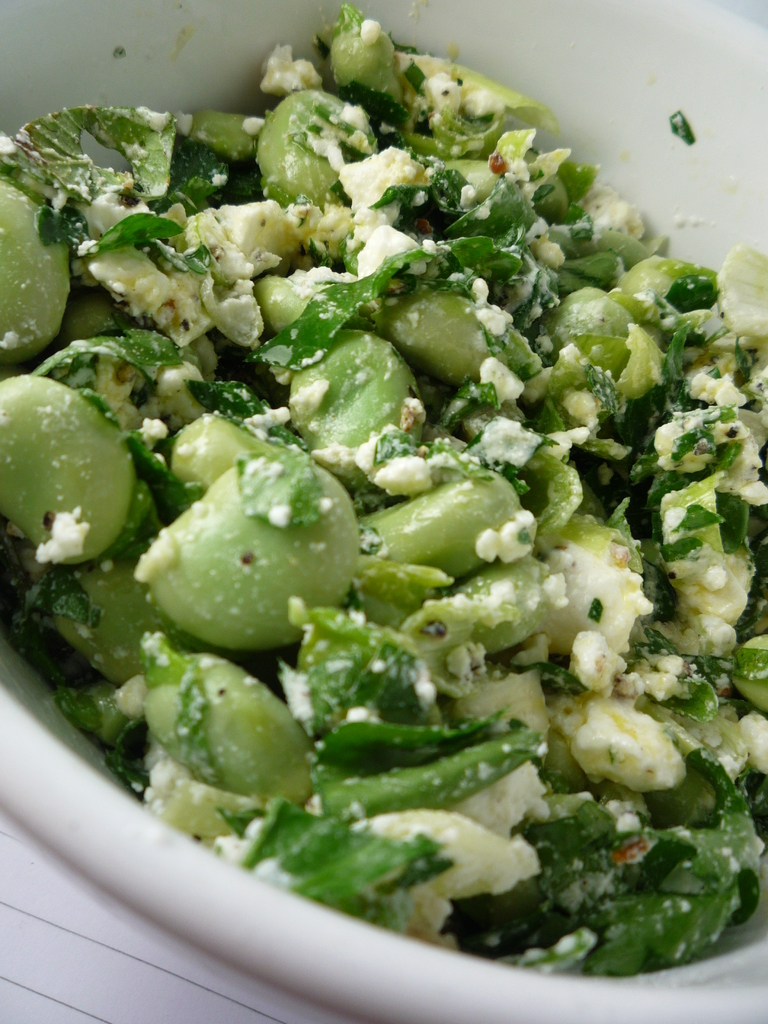salad: (0, 12, 759, 967)
